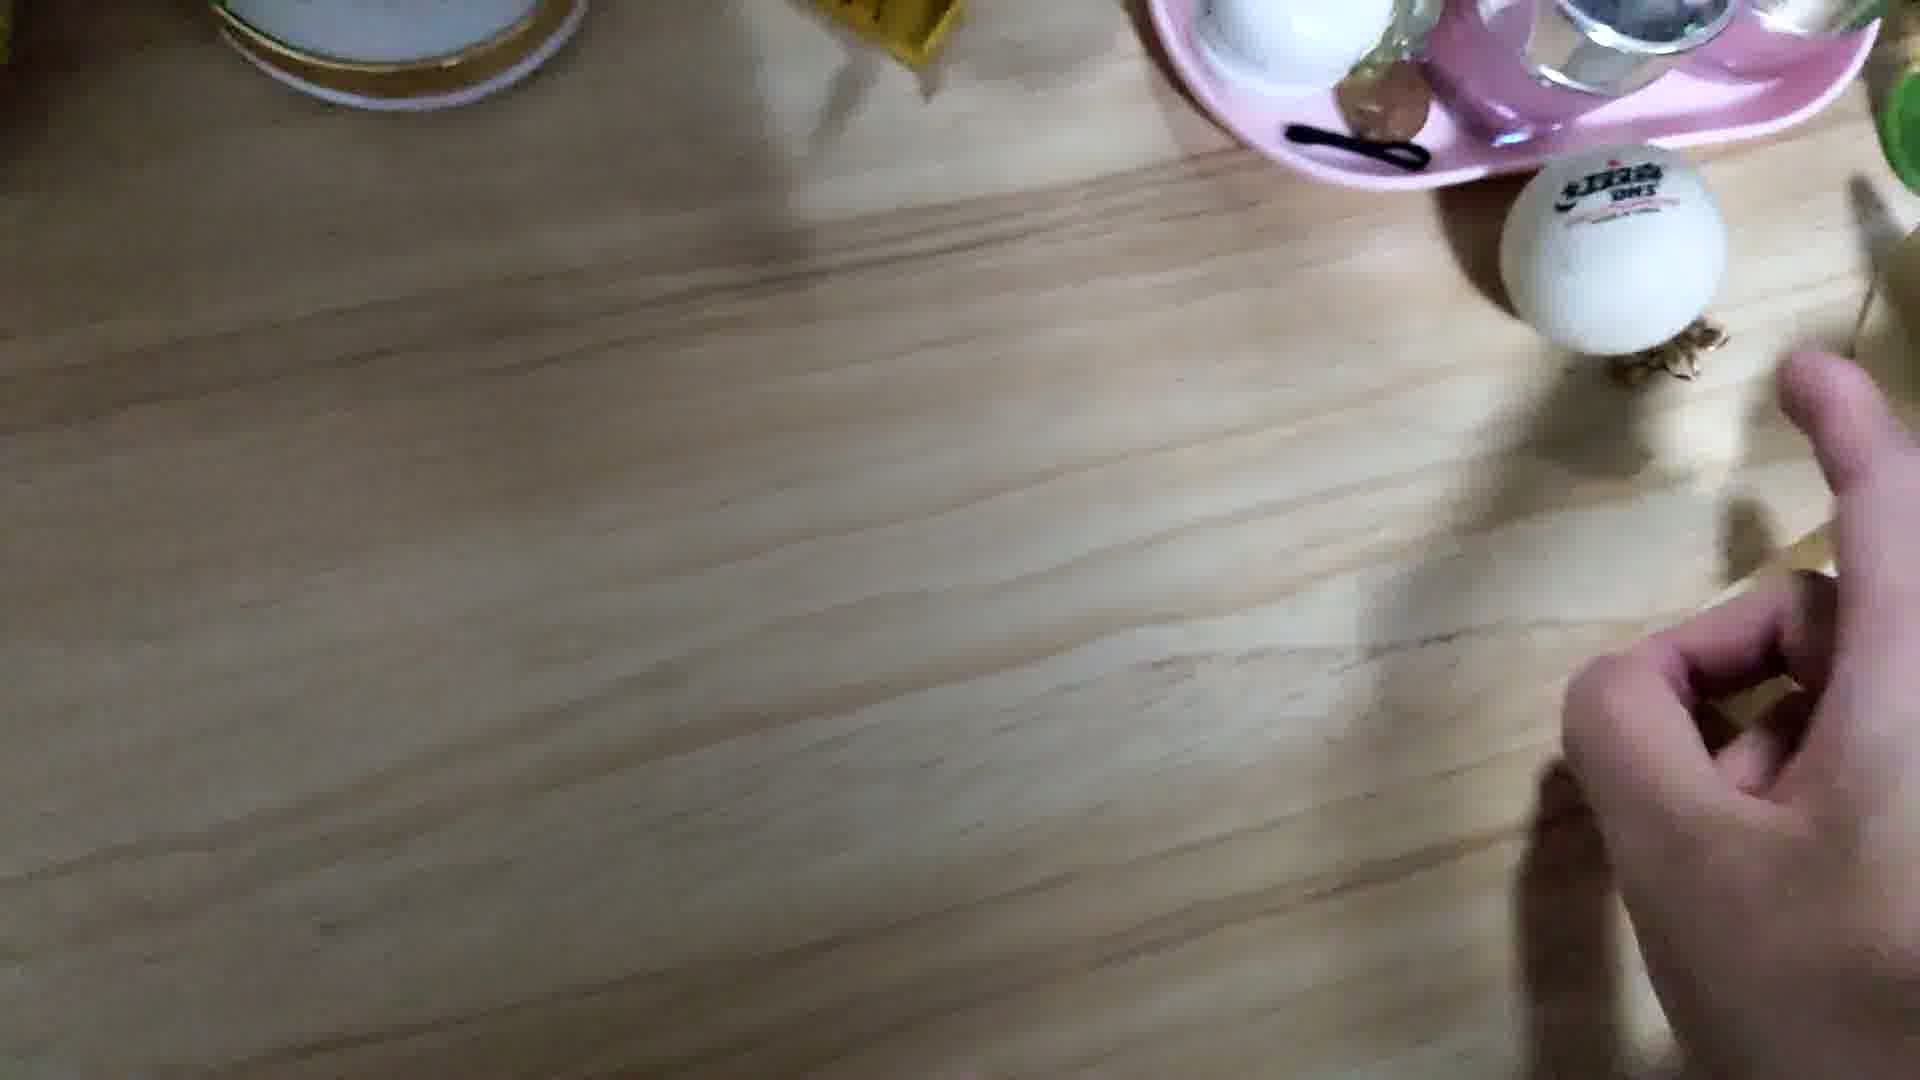Ball: (1501, 142, 1720, 357)
